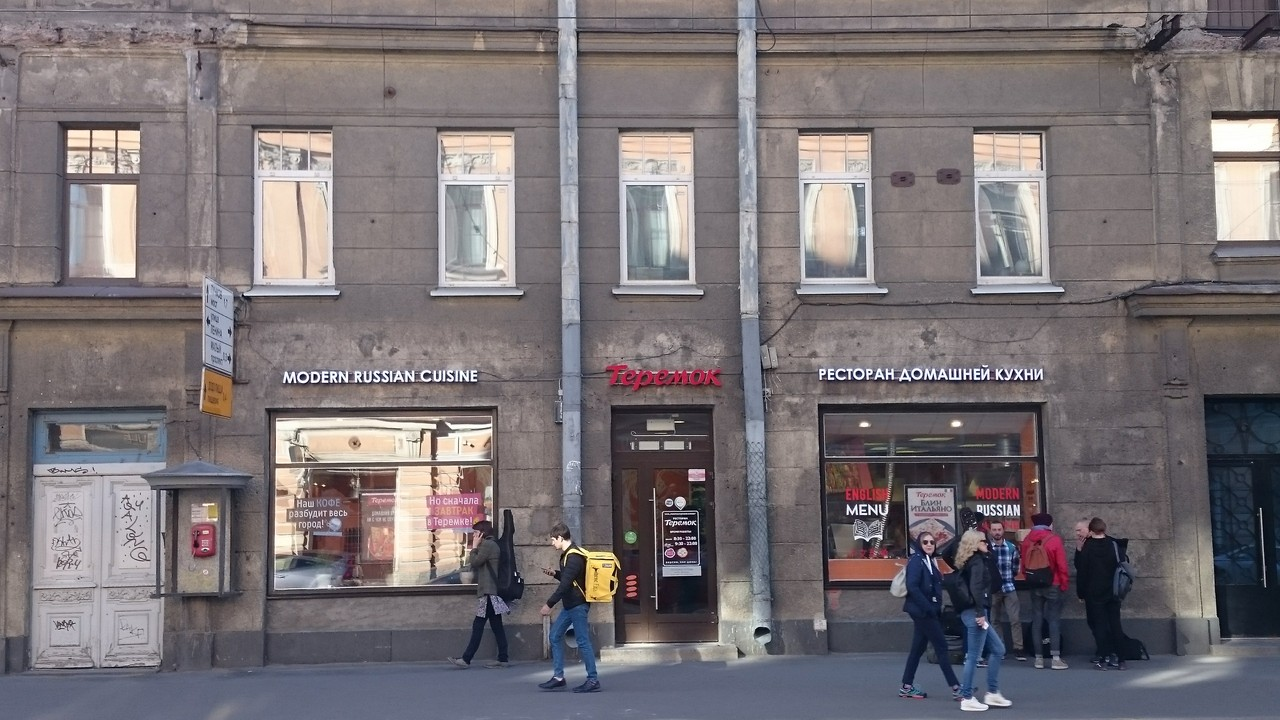door: (32, 472, 158, 663), (649, 462, 718, 642)
signboard: (820, 366, 1047, 384), (605, 362, 720, 387), (282, 371, 478, 383)
window: (272, 412, 499, 597), (822, 404, 1045, 588), (250, 127, 330, 287), (63, 125, 142, 284), (974, 128, 1052, 285), (440, 132, 514, 287), (799, 133, 872, 281), (622, 134, 692, 285), (1212, 109, 1280, 236), (32, 411, 162, 463), (610, 407, 712, 459)
